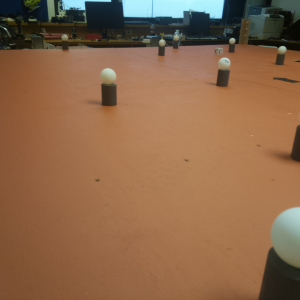blockC: (214, 48, 222, 55)
corner: (240, 18, 250, 48)
obstacle: (261, 204, 300, 298), (99, 68, 118, 107), (217, 58, 229, 87), (277, 46, 286, 68), (61, 34, 70, 51), (158, 39, 166, 56), (228, 38, 236, 54), (172, 34, 179, 48)
start: (274, 75, 300, 84)
